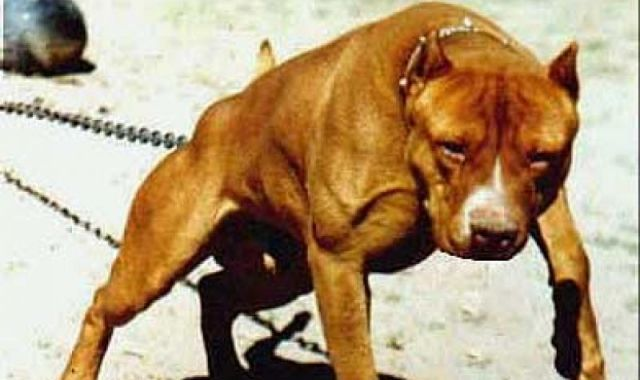Perro Pitbull: (249, 8, 640, 331)
